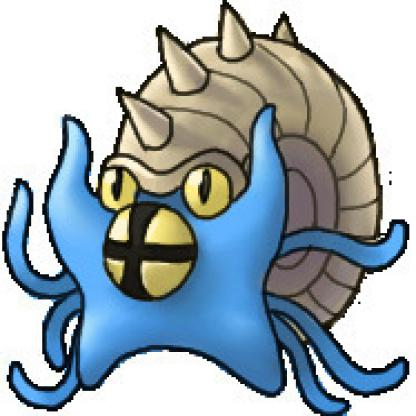Omastar: (5, 12, 415, 415)
